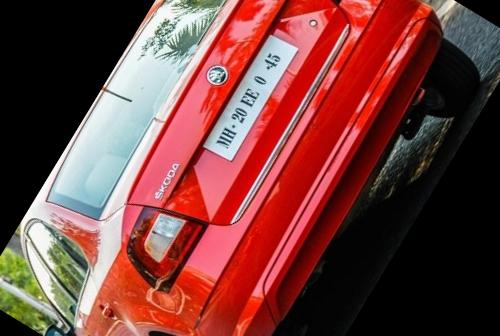plate: (186, 16, 315, 176)
